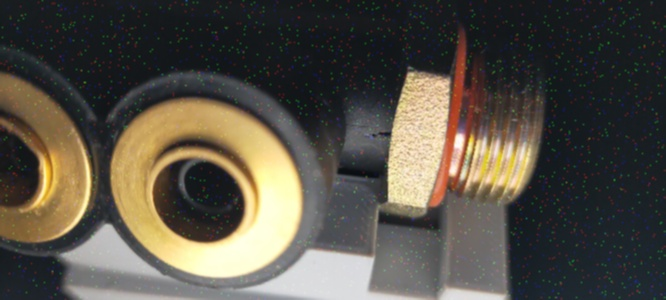craze: (367, 130, 392, 149)
joint line: (343, 119, 380, 131)
